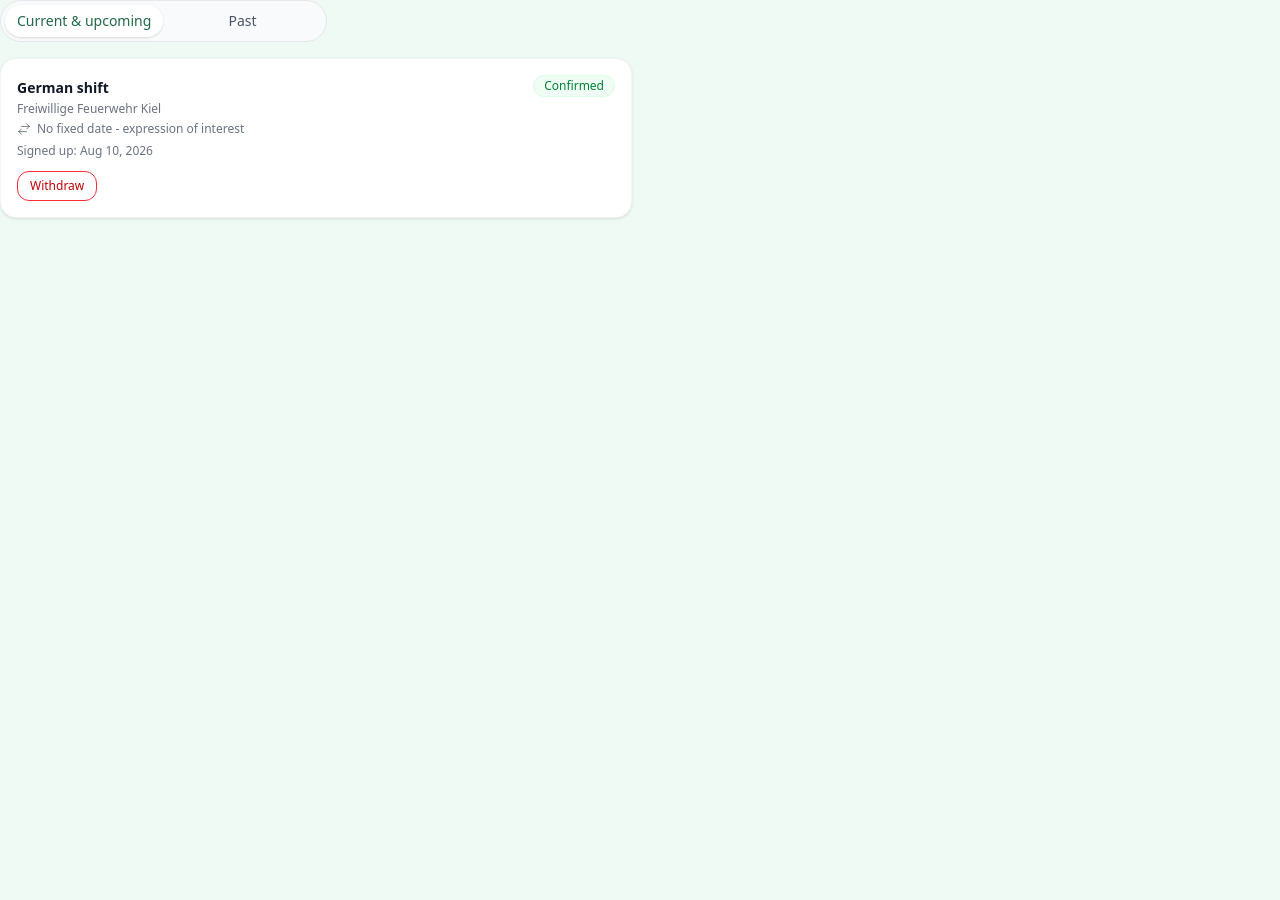
my-signups withdraw success (#2240) › keeps the card under upcoming, now withdrawn with a way back in
Step 1. Click the button "Withdraw" → (57, 186), box [17,171,97,201]
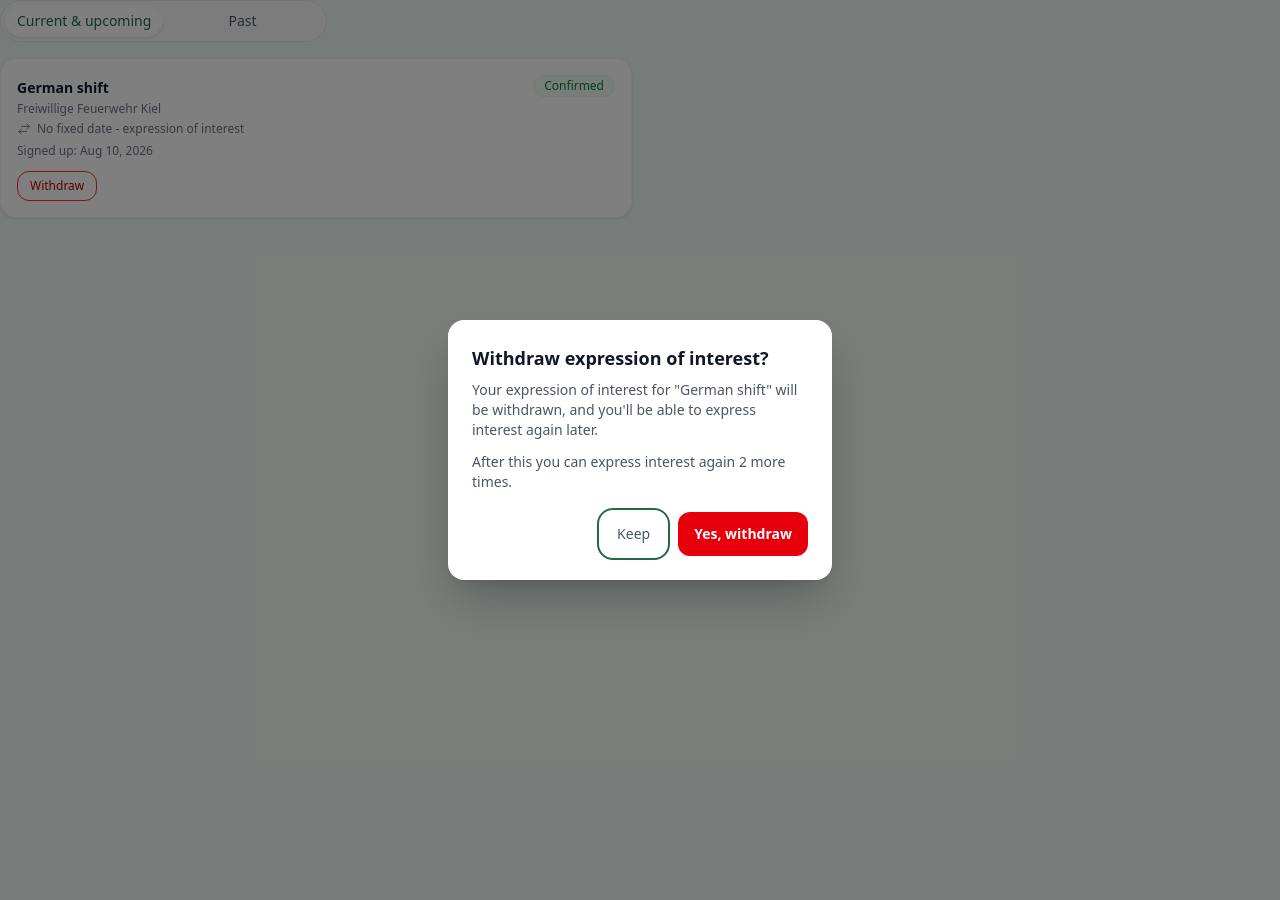
Step 2. Click the button "Yes, withdraw" → (743, 534), box [678,512,808,556]
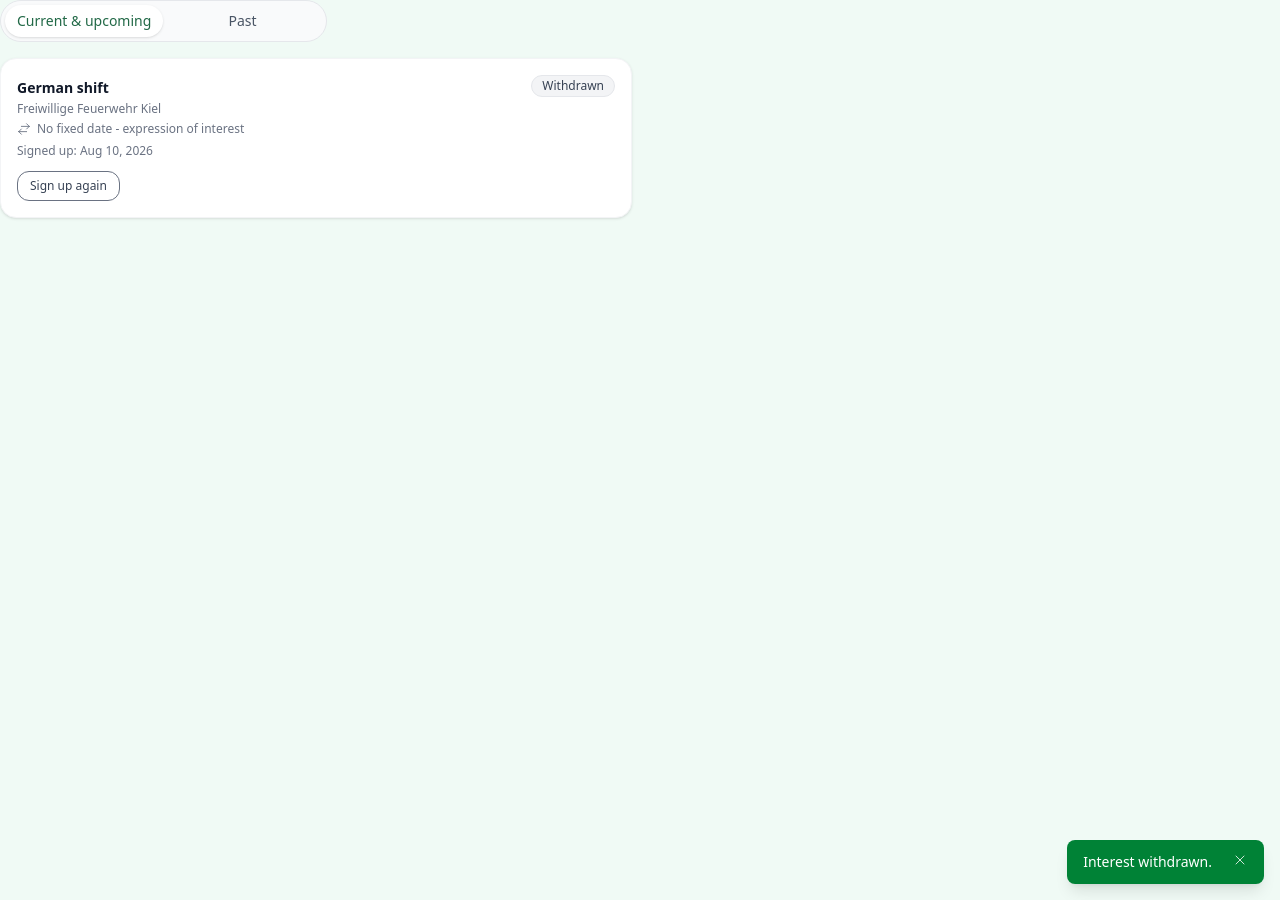
Expected: the text "Withdrawn" is shown, [531,75,615,97]
